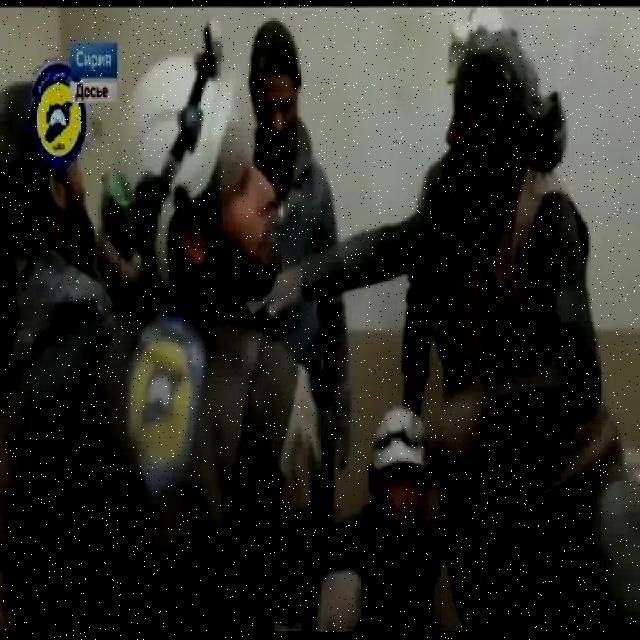Helmet: (121, 48, 236, 292), (442, 10, 522, 84), (366, 402, 431, 492)
